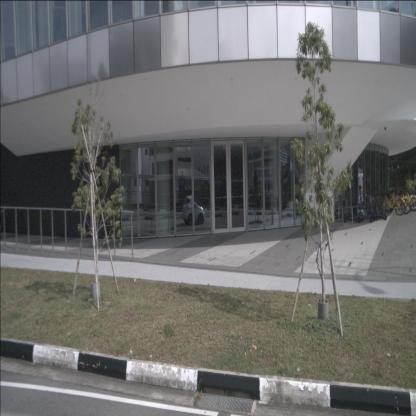vehicle-car: (182, 195, 206, 226)
